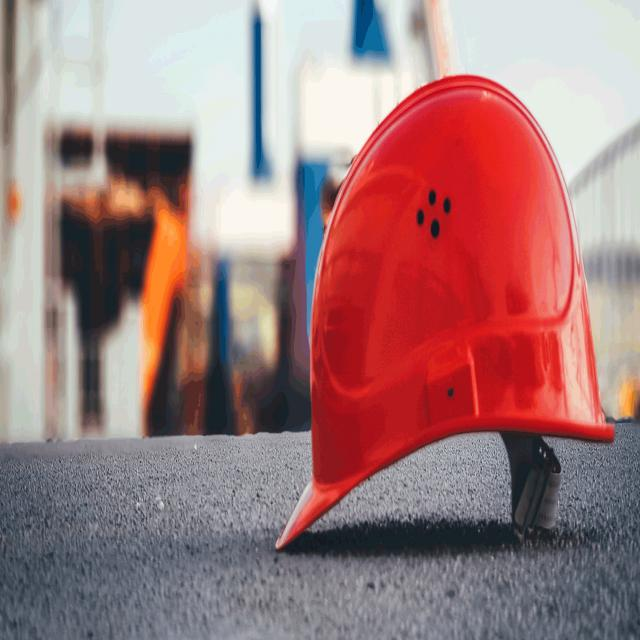Reflective-Jacket: (137, 192, 204, 413), (182, 327, 209, 384), (619, 372, 640, 421)
Safety-Helmet: (272, 70, 633, 556), (198, 282, 212, 311)
